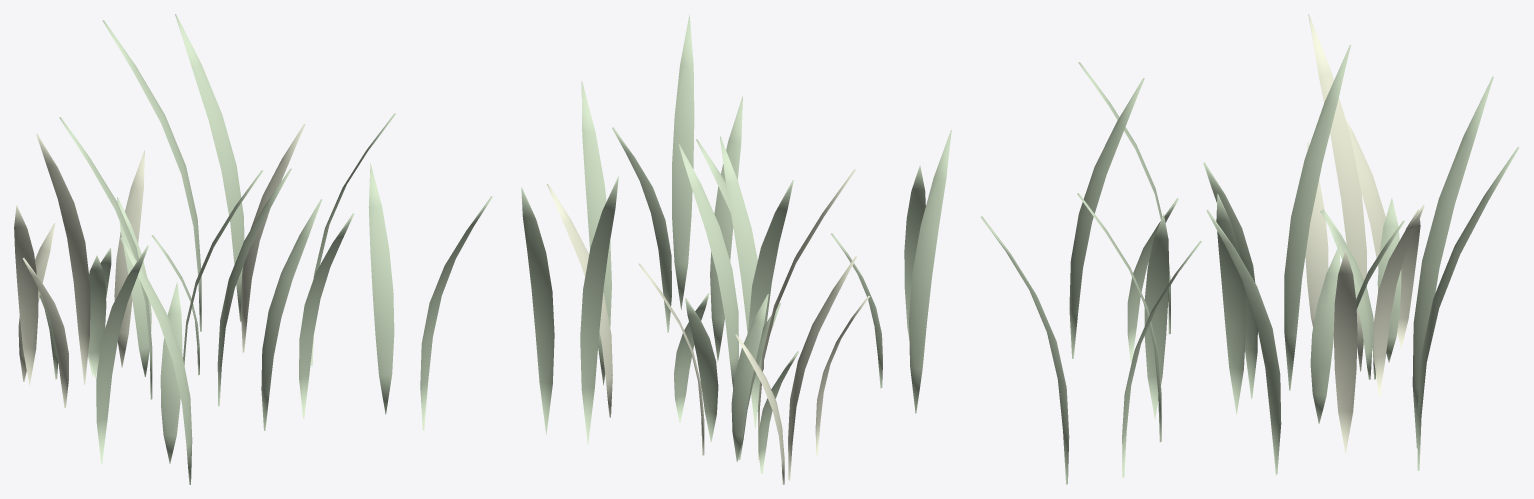
Rendered from SM_WLA_Grass_A.fbx.
The picture shows the model from 3 angles, left to right: view 1: azimuth 30°, elevation 25°; view 2: azimuth 150°, elevation 25°; view 3: azimuth 270°, elevation 25°; orthographic projection. The views are drawn at different scales.
Parts seen in each view (by area): view 1: SM_WLA_Grass_A; view 2: SM_WLA_Grass_A; view 3: SM_WLA_Grass_A.
Part boxes in pixels (x1,y1,x2,y2): SM_WLA_Grass_A: (14,14,492,484); SM_WLA_Grass_A: (521,14,951,484); SM_WLA_Grass_A: (980,14,1519,484).
Size of the model in its own units: 0.5442 by 0.4271 by 0.3765.
